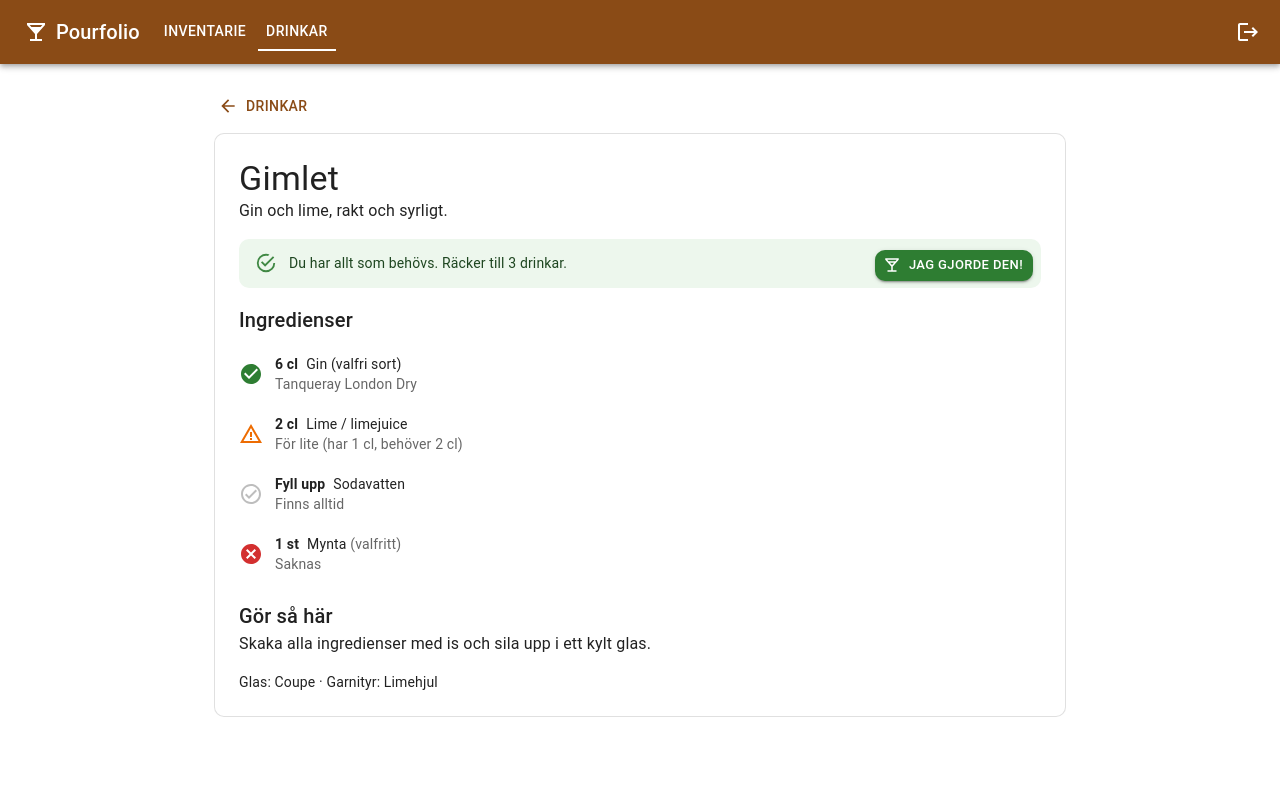
Test: Jag gjorde den! › shows what will be taken from which bottle
Click the button "Jag gjorde den!". click: x=954, y=266
box: [875,250,1033,281]
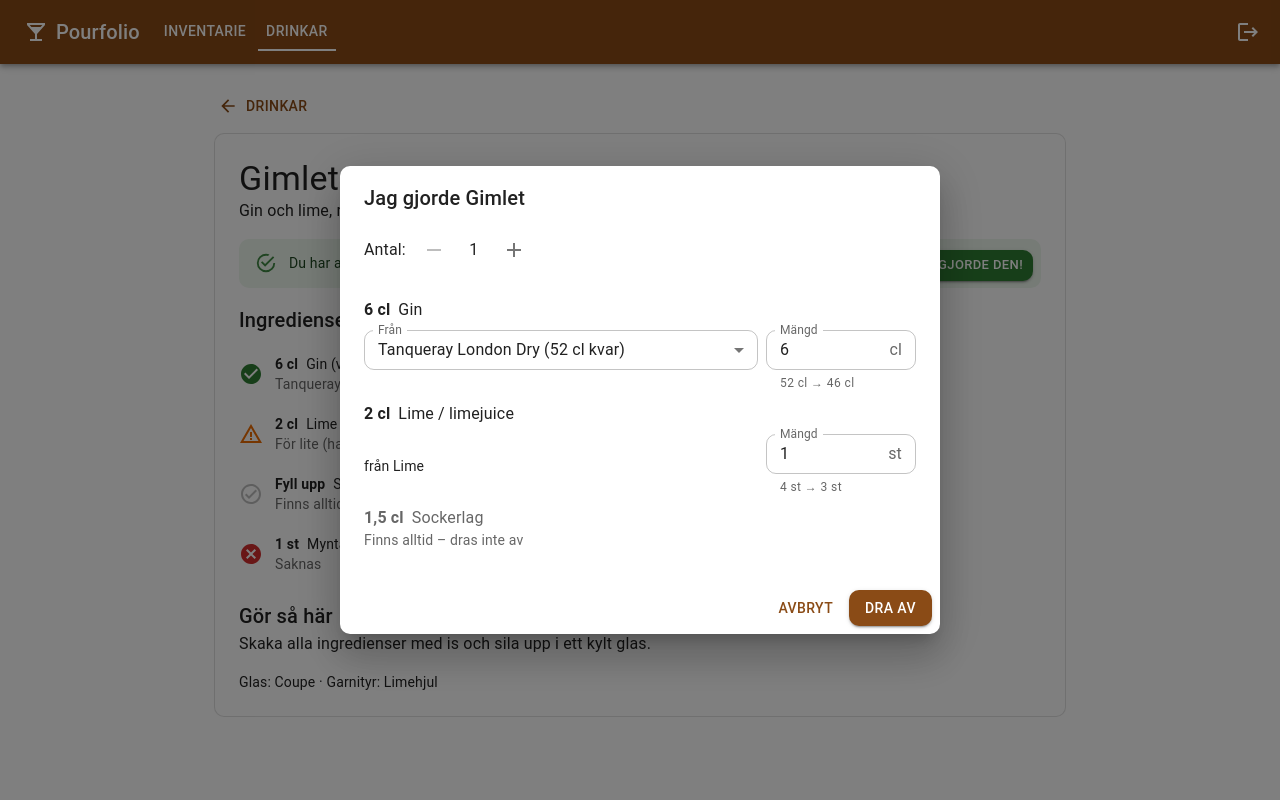
Result: the list named "Det här dras av" is shown at [364,286,916,562]
Result: the list item "Gin" shows "6 clGin" at [364,294,916,398]
Result: the dropdown labelled "Från" shows "Tanqueray London Dry (52 cl kvar)" at [364,330,758,370]
